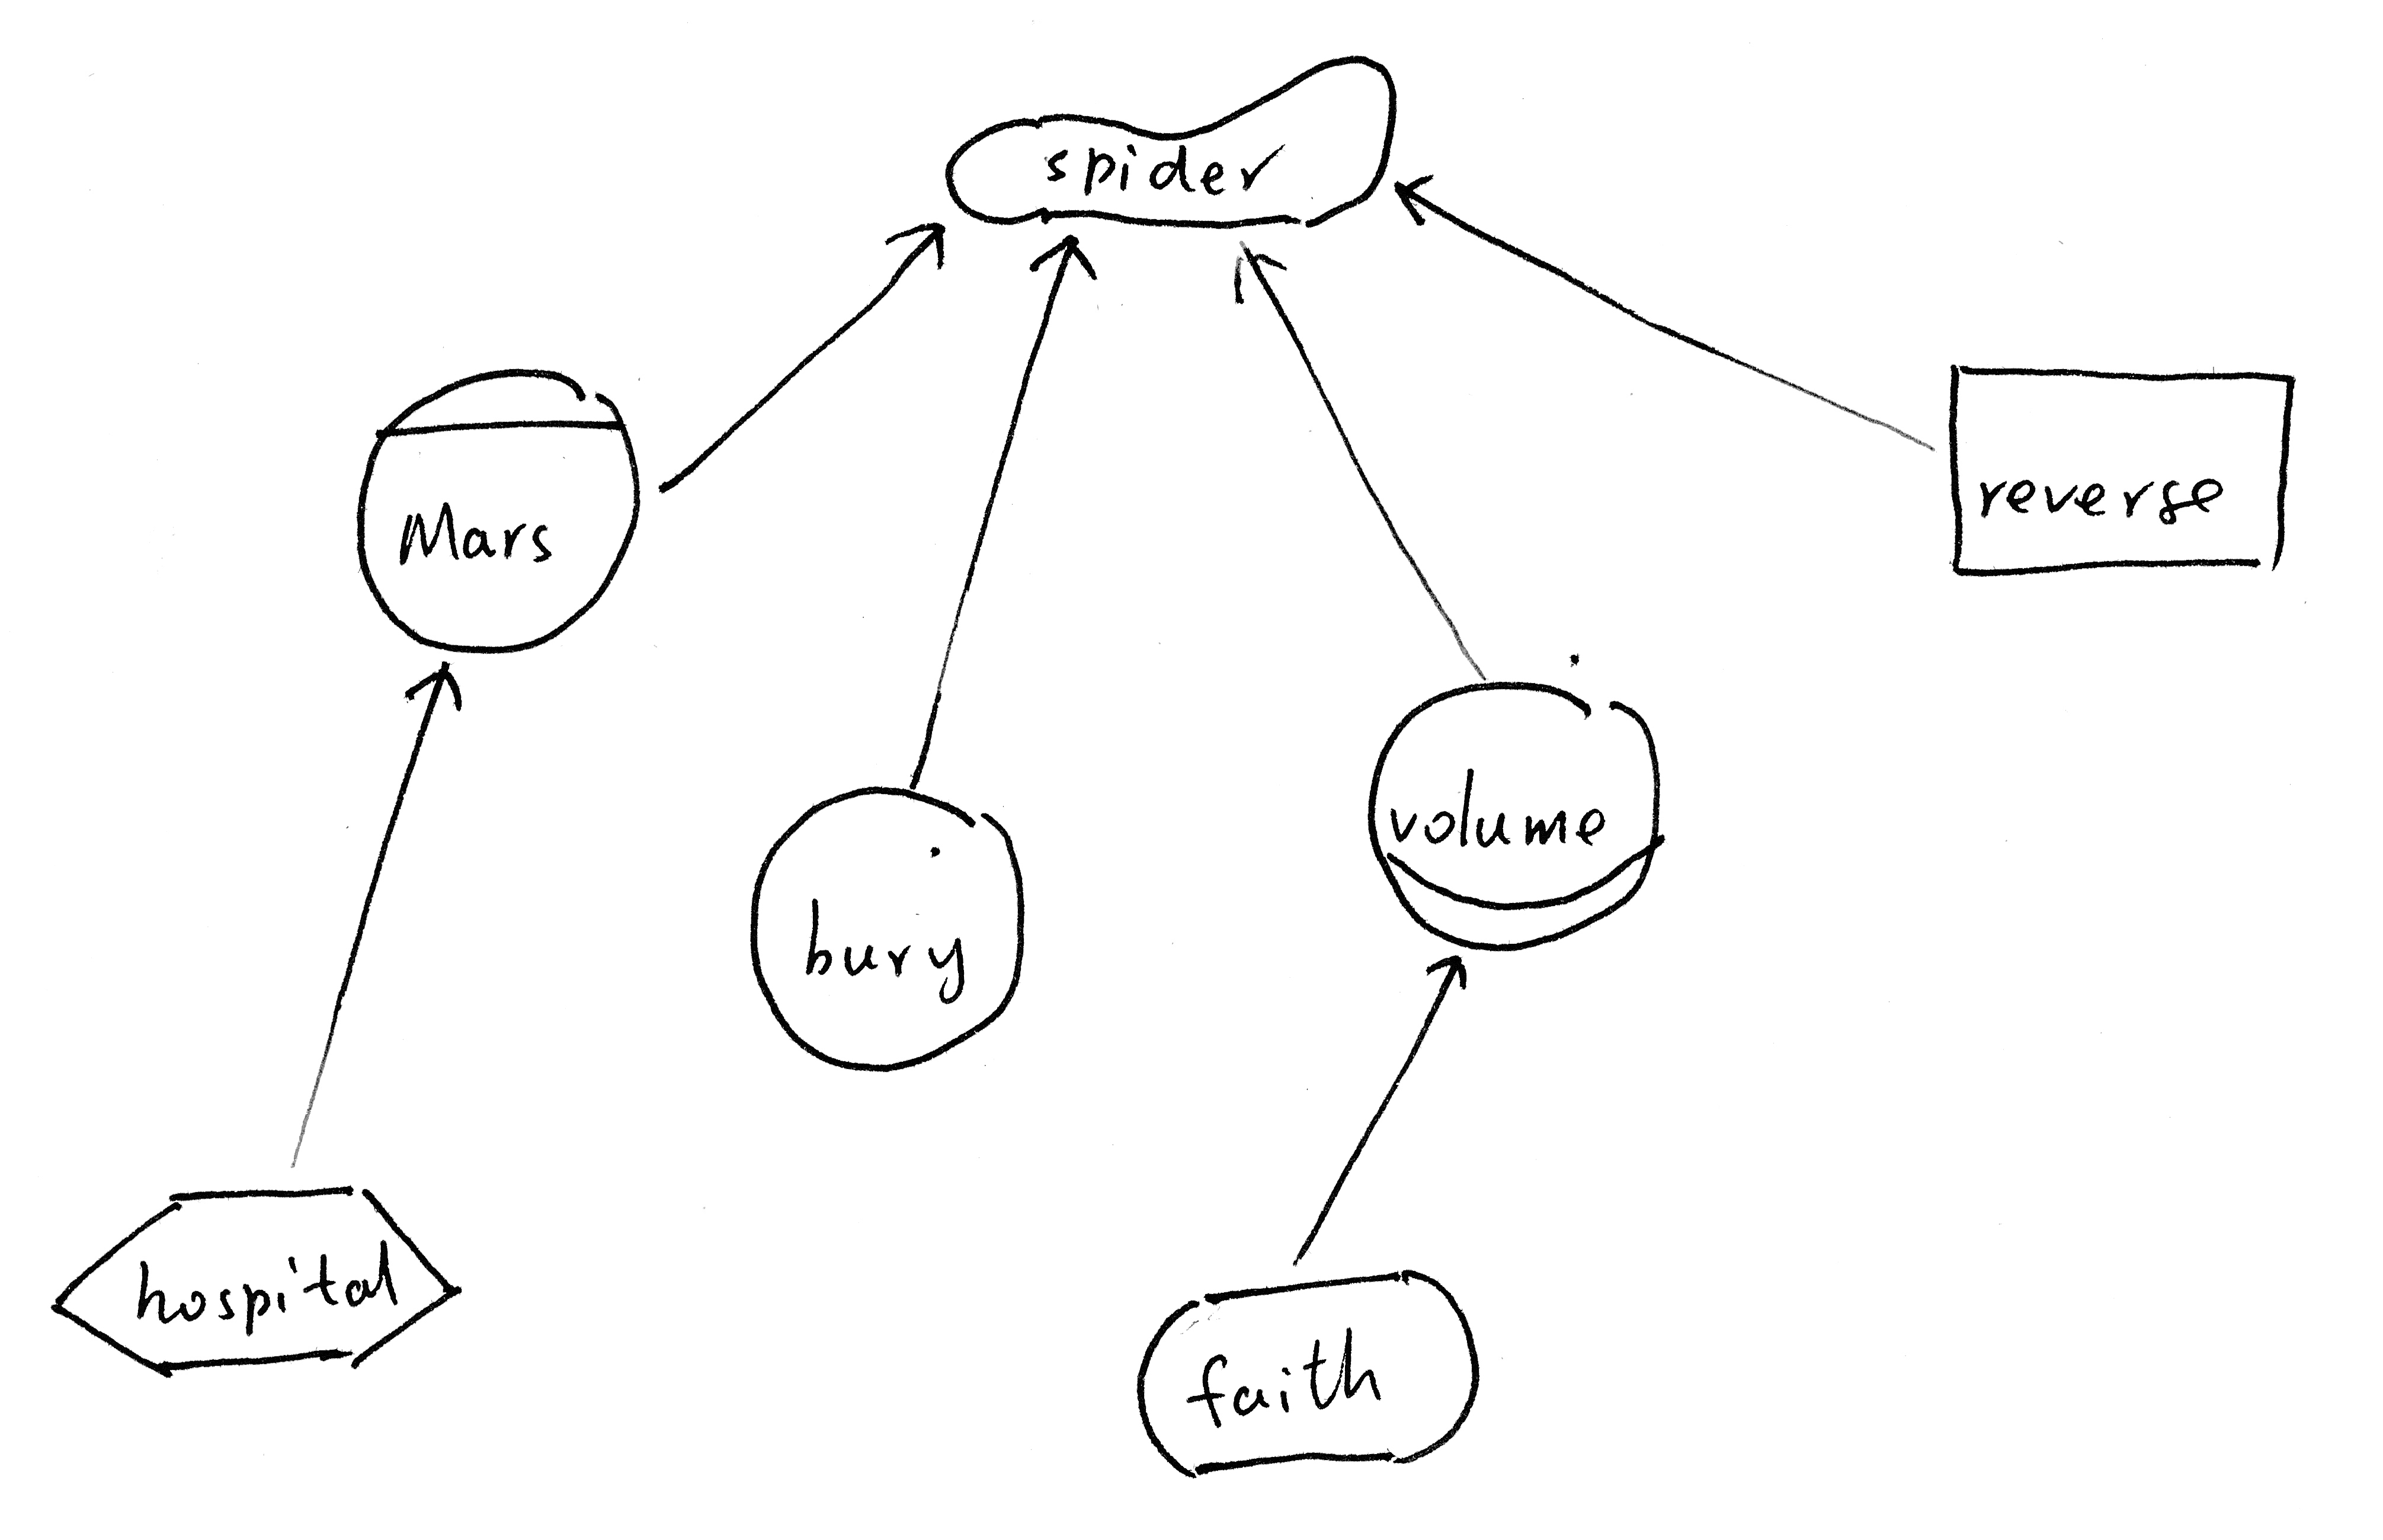actor: (733, 767, 1046, 1087)
agent: (344, 351, 660, 679)
arrow: (382, 648, 488, 738), (1219, 233, 1299, 321), (860, 205, 957, 276), (1383, 149, 1450, 250), (1023, 226, 1112, 302), (1400, 936, 1487, 1012)
goal: (1120, 1252, 1495, 1490)
quality: (922, 43, 1412, 245)
resource: (1928, 349, 2314, 590)
role: (1353, 668, 1680, 967)
task: (28, 1163, 483, 1389)
